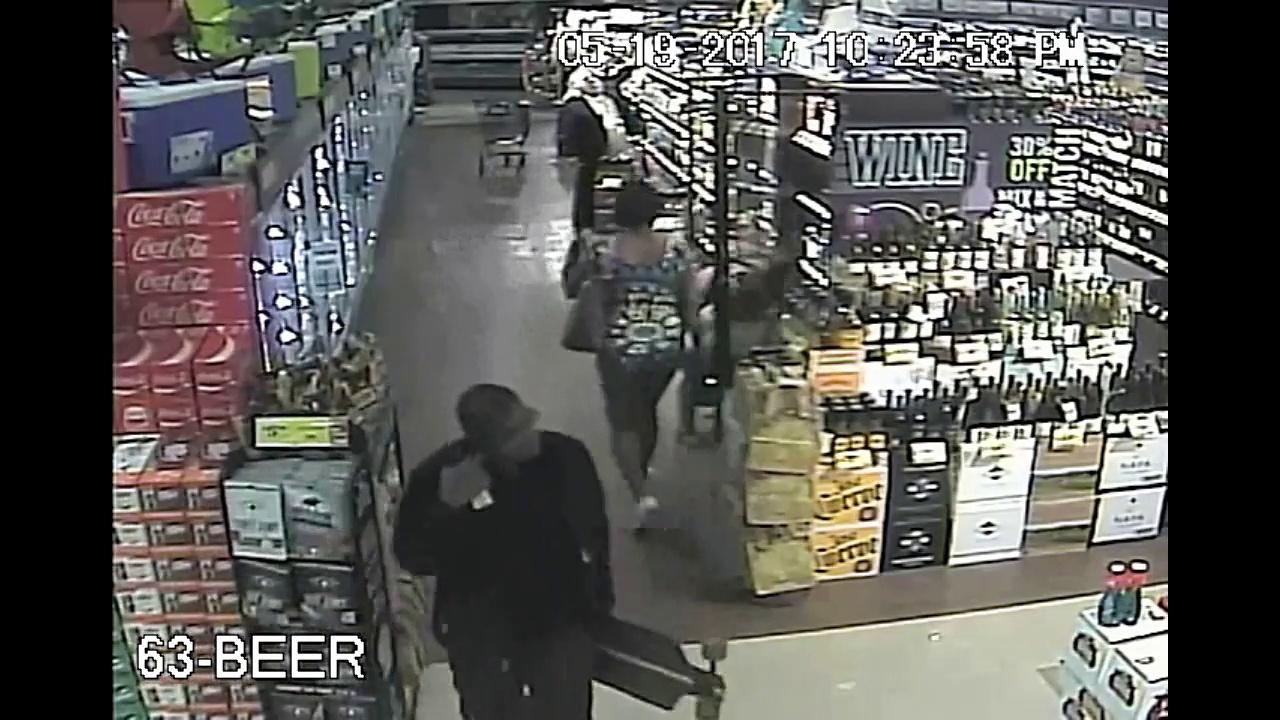Customer-Bagpack: (564, 259, 629, 366)
Product: (454, 466, 504, 527)
Product-Picked: (327, 364, 692, 720)
Regular: (550, 159, 752, 518), (531, 59, 648, 157)
